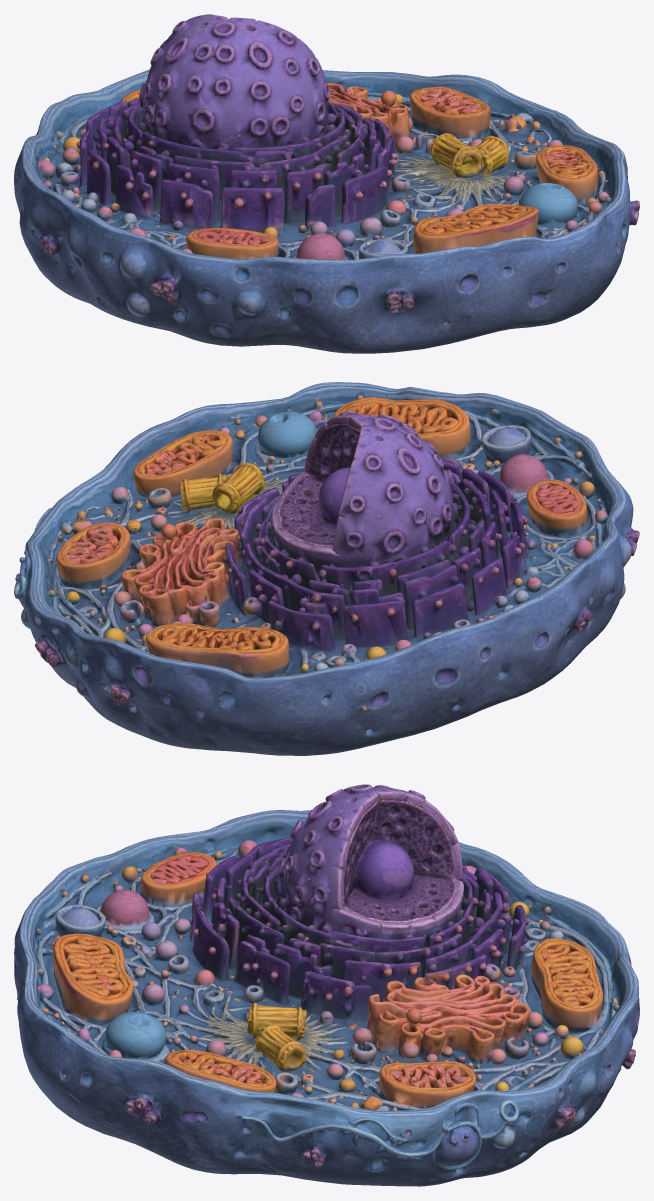
Rendered from animal-tripo-web.glb.
3 renders of one model, top to bottom at view 1: azimuth 30°, elevation 25°; view 2: azimuth 150°, elevation 25°; view 3: azimuth 270°, elevation 25°, orthographic.
Parts seen in each view (by area): view 1: tripo_node_999807fe-d79e-4feb-9b14-23237904ee37; view 2: tripo_node_999807fe-d79e-4feb-9b14-23237904ee37; view 3: tripo_node_999807fe-d79e-4feb-9b14-23237904ee37.
Boxes of the visible parts, x1,y1,x2,y2 form: tripo_node_999807fe-d79e-4feb-9b14-23237904ee37: [14, 14, 639, 353]; tripo_node_999807fe-d79e-4feb-9b14-23237904ee37: [14, 382, 639, 755]; tripo_node_999807fe-d79e-4feb-9b14-23237904ee37: [14, 784, 639, 1186].
Size of the model in its own units: 0.9777 by 0.467 by 0.9927.
Materials: 1 (1 with a texture image).
